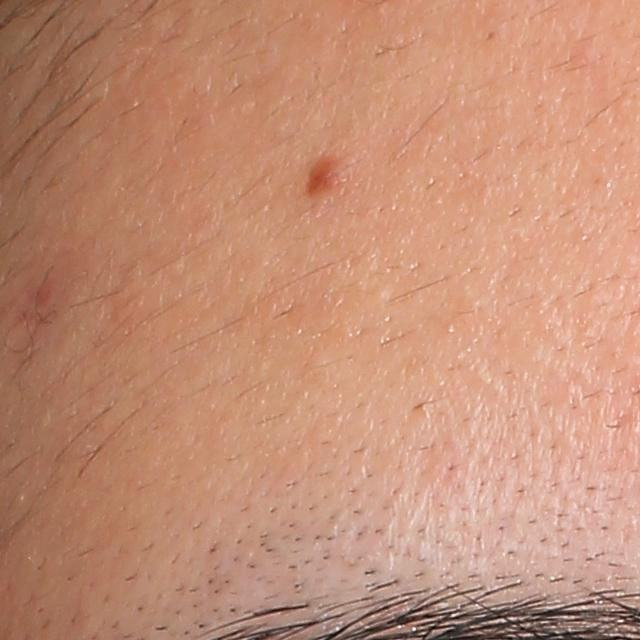nevus: (297, 157, 344, 193)
